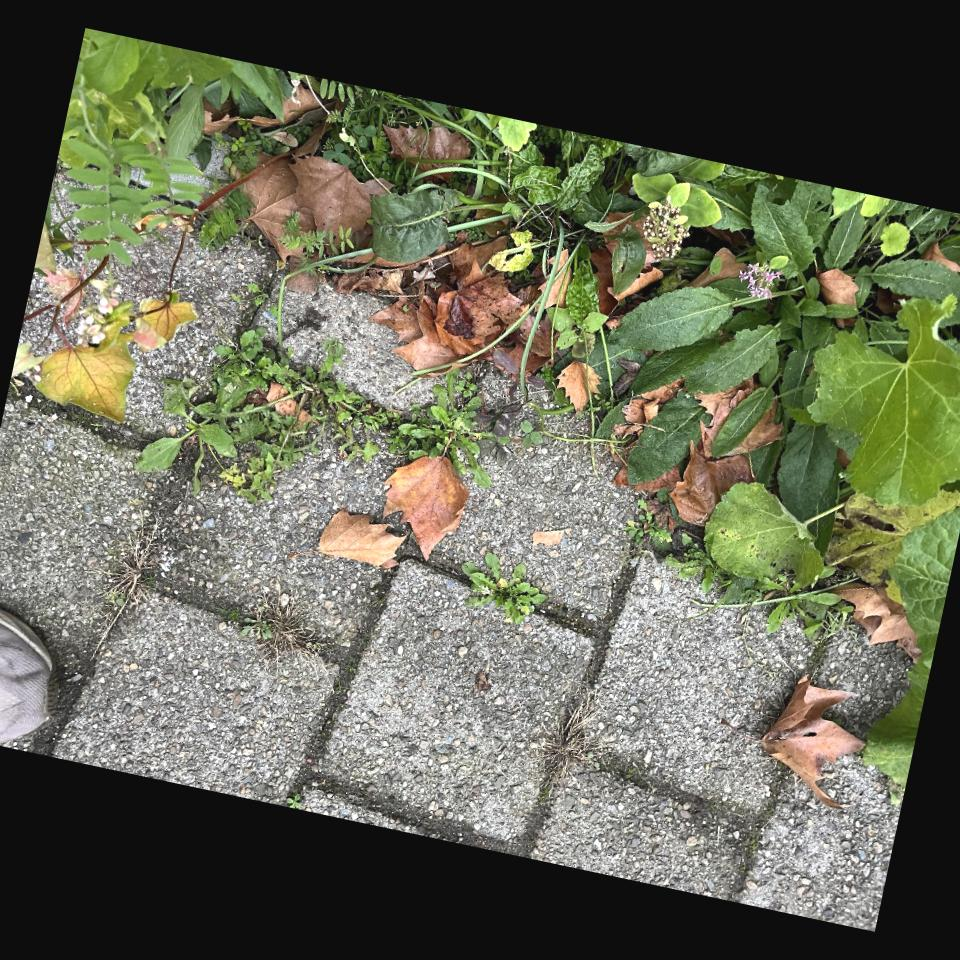weed: (437, 783, 578, 866), (468, 615, 552, 700), (645, 550, 718, 643)
